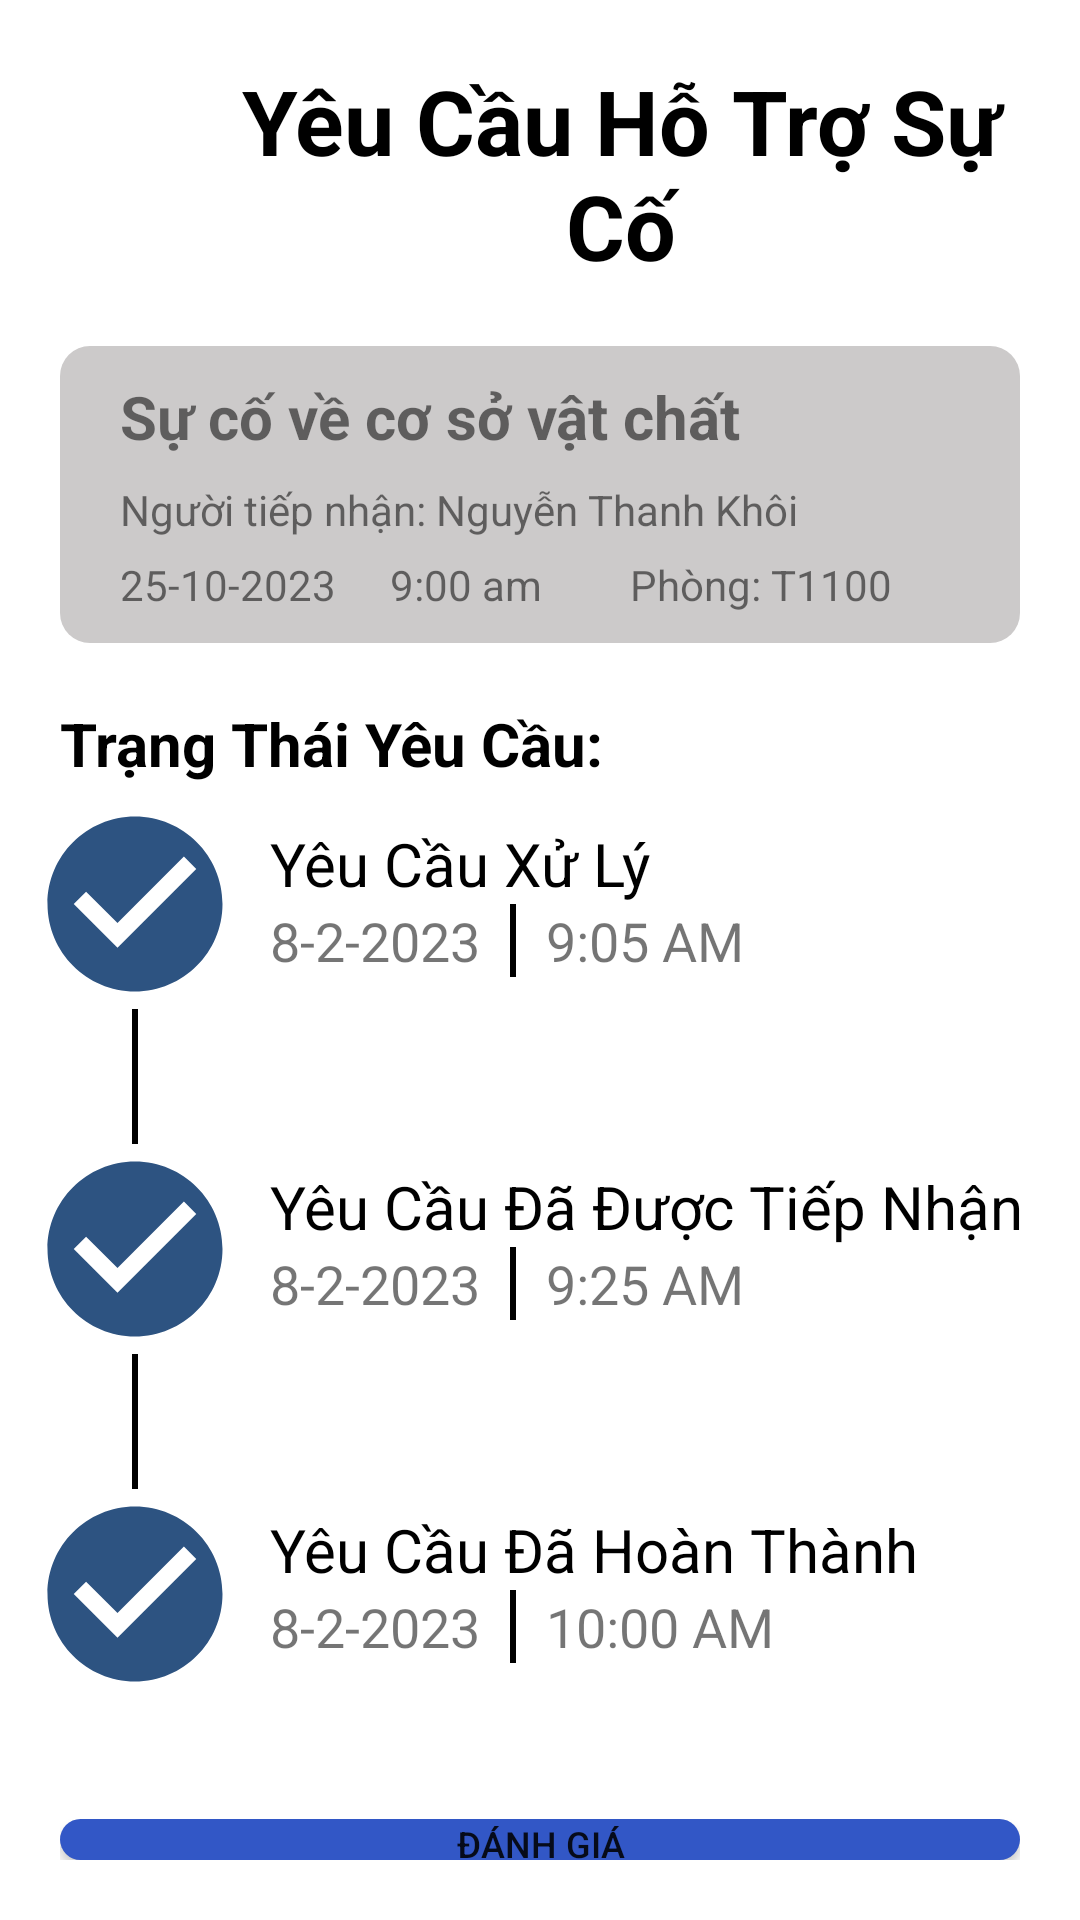

Locate icon controls on the screen. Image size 1080 × 1920, boxes as bbox(x1, y1, x2, y2).
check circle: bbox(47, 816, 223, 992), bbox(47, 1161, 223, 1337), bbox(47, 1506, 223, 1682)
